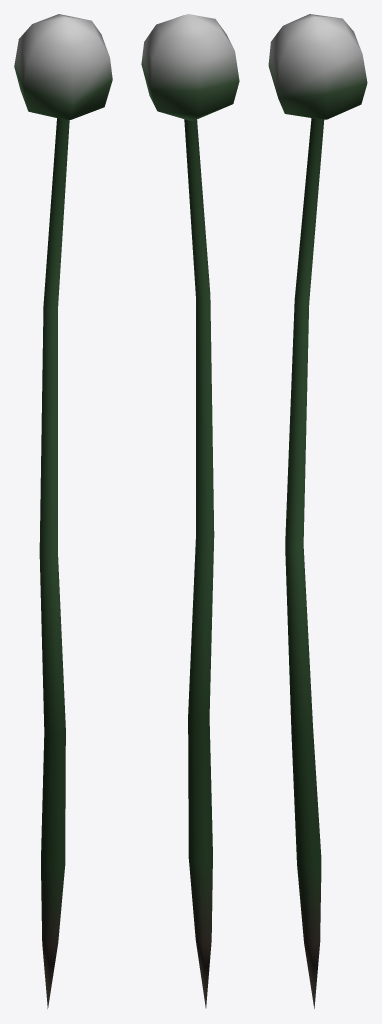
Rendered from plants-flowers-daisy_v3.glb.
3 renders of one model, left to right at view 1: azimuth 30°, elevation 25°; view 2: azimuth 210°, elevation 25°; view 3: azimuth 330°, elevation 25°, orthographic.
Visible parts, largest first — view 1: Daisy_v3; view 2: Daisy_v3; view 3: Daisy_v3.
Boxes of the visible parts, x1,y1,x2,y2 form: Daisy_v3: (14, 14, 112, 1008); Daisy_v3: (141, 14, 239, 1008); Daisy_v3: (268, 14, 367, 1008).
Size of the model in its own units: 0.0468 by 0.5 by 0.0443.
